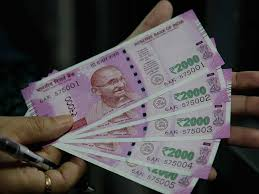twoThousand: (52, 50, 208, 116)
